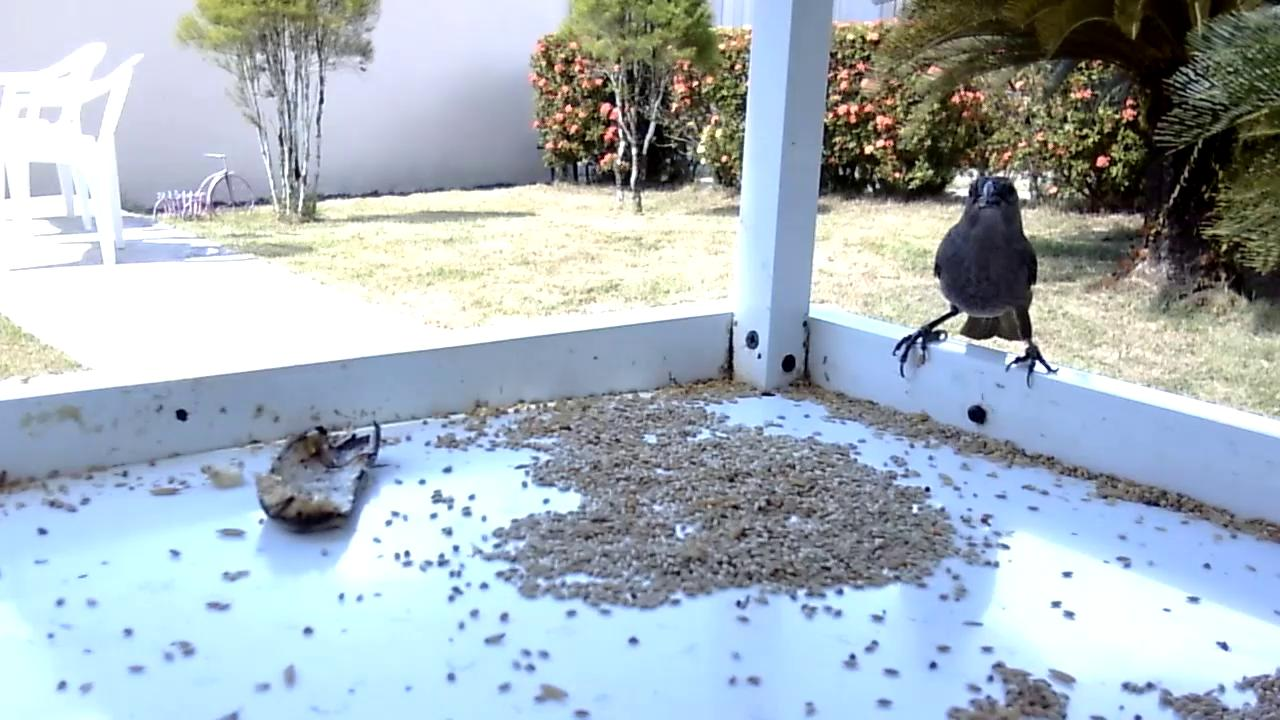chupim: (891, 175, 1063, 392)
